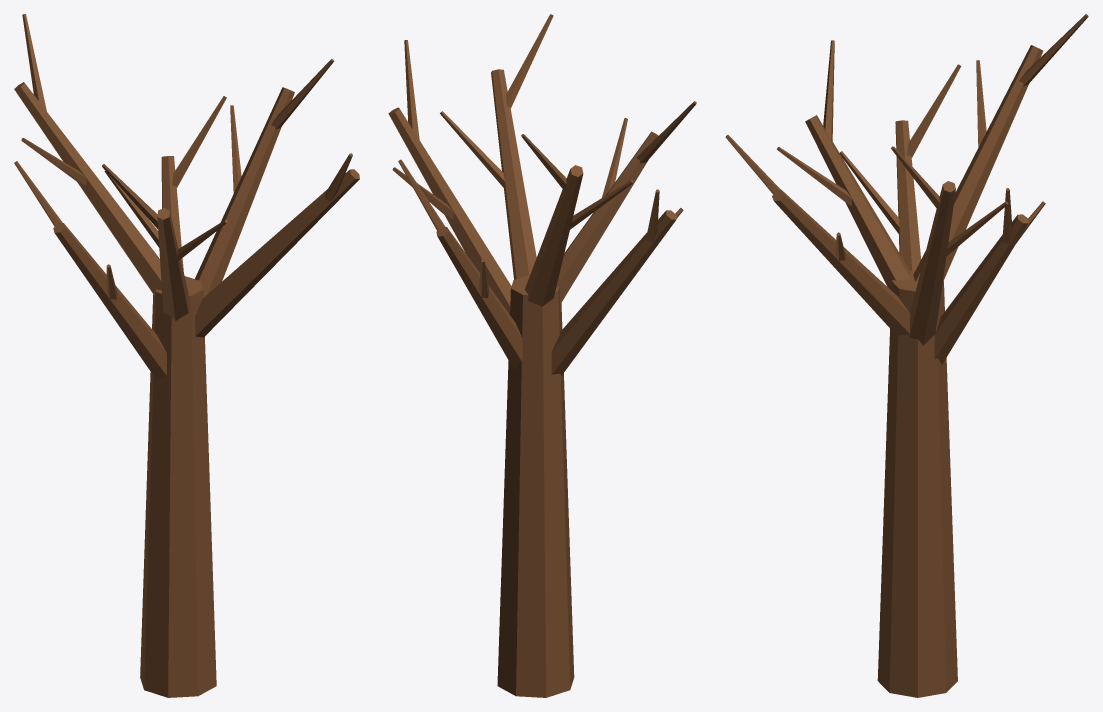
File: ipe_bare.obj
3 views of the same model, side by side, from view 1: azimuth 30°, elevation 25°; view 2: azimuth 150°, elevation 25°; view 3: azimuth 270°, elevation 25° (orthographic).
Parts seen in each view (by area): view 1: trunk; view 2: trunk; view 3: trunk.
Part boxes in pixels (x1=…): trunk: x1=14, y1=14, x2=359, y2=697; trunk: x1=388, y1=14, x2=696, y2=697; trunk: x1=725, y1=14, x2=1088, y2=697.
Bounding box in the file's own units: 1.67 × 3.47 × 1.81.
